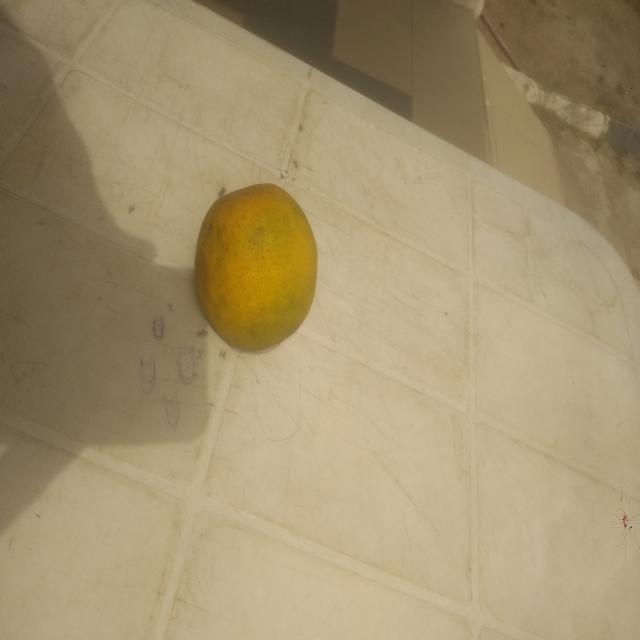agrume: (186, 166, 340, 384)
